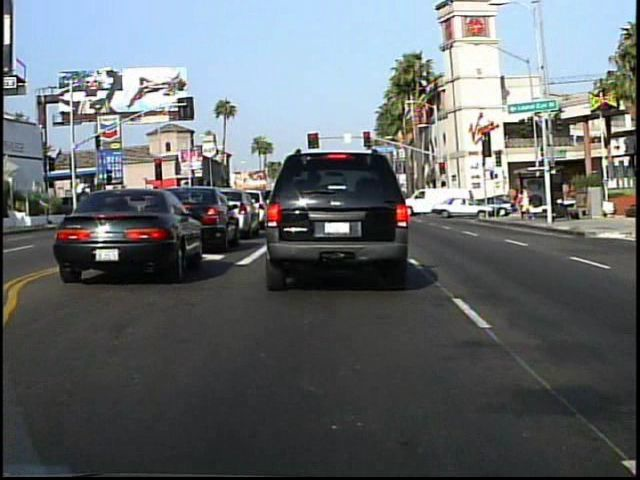person: (516, 183, 534, 226)
